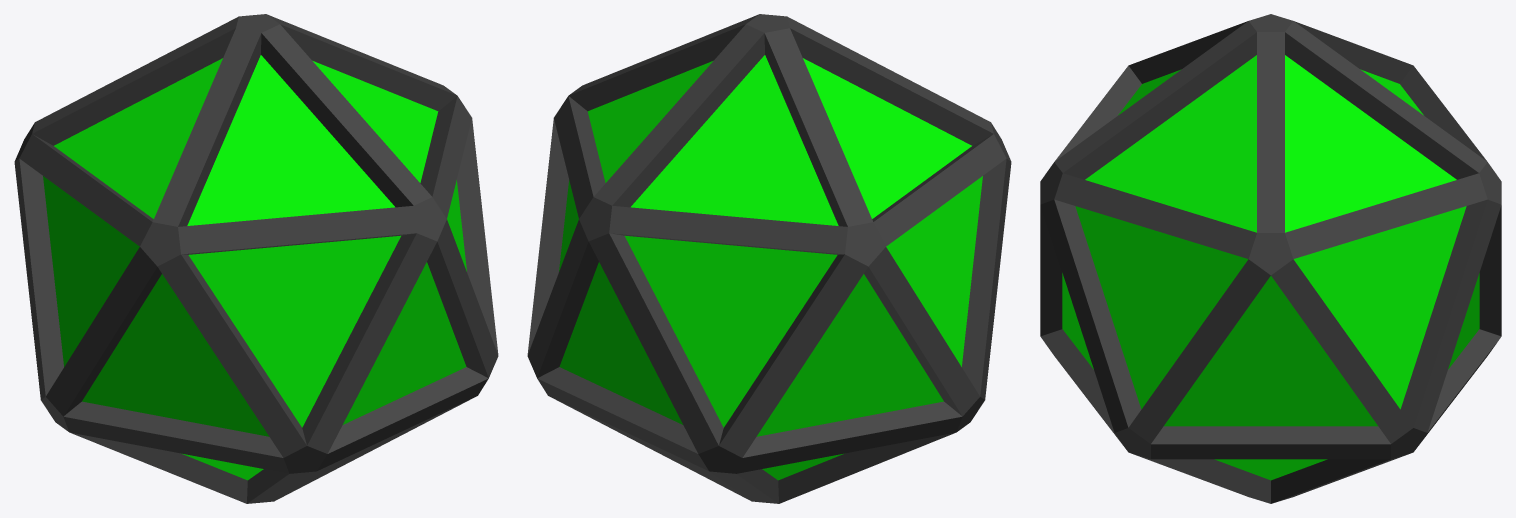
Rendered from green_ball.gltf.
3 renders of one model, left to right at view 1: azimuth 30°, elevation 25°; view 2: azimuth 150°, elevation 25°; view 3: azimuth 270°, elevation 25°, orthographic.
Visible parts, largest first — view 1: Icosphere; view 2: Icosphere; view 3: Icosphere.
Part boxes in pixels (left/top/right/bottom): Icosphere: left=14, top=14, right=498, bottom=503; Icosphere: left=527, top=14, right=1011, bottom=503; Icosphere: left=1040, top=14, right=1501, bottom=503.
Bounding box in the file's own units: 1.75 × 1.87 × 1.66.
